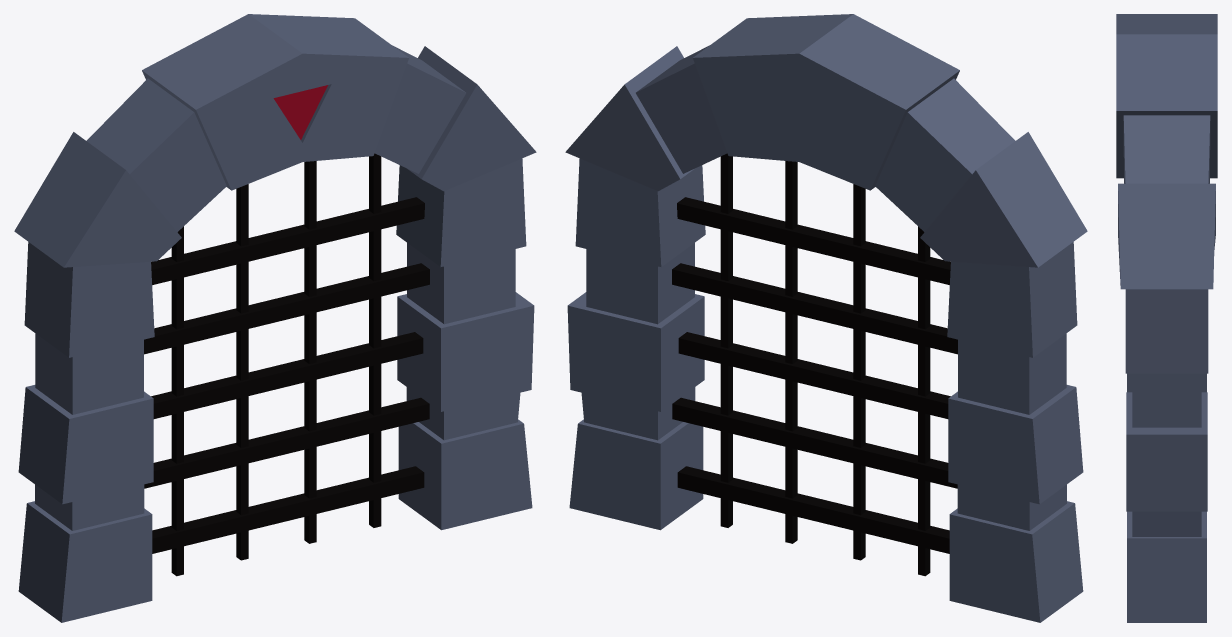
The model's file is muro con celda.fbx.
3 views of the same model, side by side, from view 1: azimuth 30°, elevation 25°; view 2: azimuth 150°, elevation 25°; view 3: azimuth 270°, elevation 25° (orthographic). The views are drawn at different scales.
Parts seen in each view (by area): view 1: door arc.037, bars.013; view 2: door arc.037, bars.013; view 3: door arc.037.
Boxes of the visible parts, x1=… form: door arc.037: x1=14, y1=14, x2=536, y2=622; bars.013: x1=144, y1=153, x2=429, y2=576; door arc.037: x1=565, y1=14, x2=1087, y2=622; bars.013: x1=672, y1=153, x2=957, y2=576; door arc.037: x1=1116, y1=14, x2=1217, y2=622.
Size of the model in its own units: 369 by 384 by 73.09.
